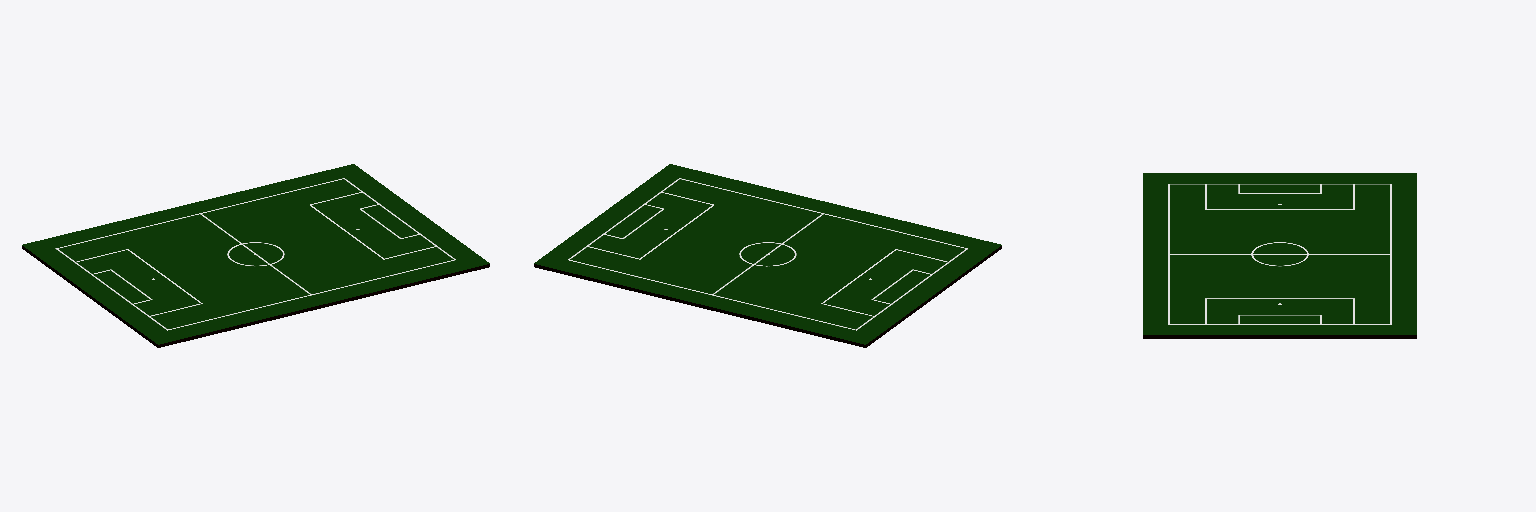
3 renders of one model, left to right at view 1: azimuth 30°, elevation 25°; view 2: azimuth 150°, elevation 25°; view 3: azimuth 270°, elevation 25°, orthographic.
Visible parts, largest first — view 1: Cube; view 2: Cube; view 3: Cube.
Part boxes in pixels (bbox=[...]): Cube: bbox=[22, 164, 489, 347]; Cube: bbox=[534, 164, 1001, 347]; Cube: bbox=[1143, 173, 1416, 338].
Size of the model in its own units: 10.4 by 0.1 by 7.4.
Materials: 2 (1 with a texture image).